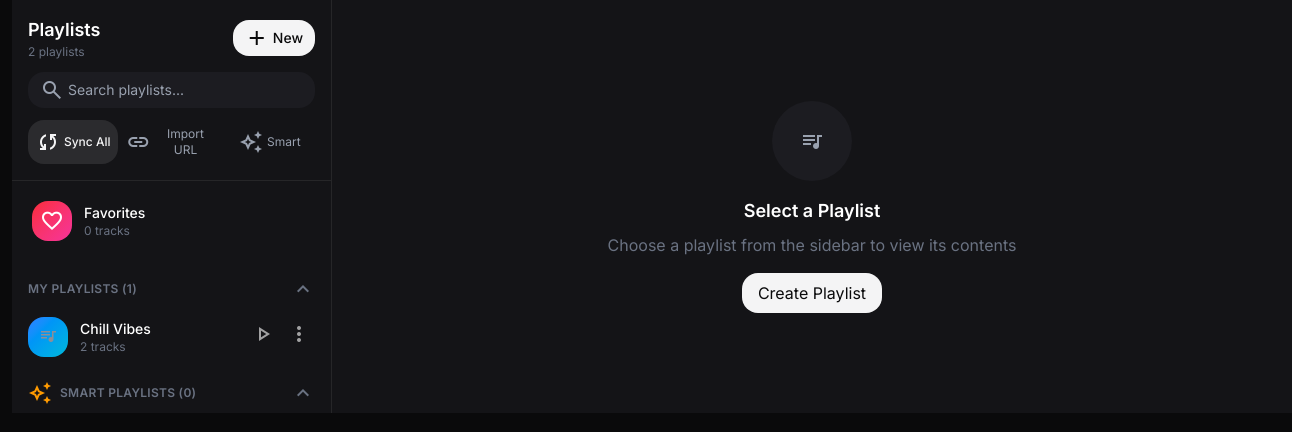
Test: PlaylistView — Favoritos reales (auditoría 24) › lee Favoritos de la biblioteca y no de get_local_playlist_tracks(-1)
Click the element showing "Favorites 0 tracks" at (89, 221), box x1=32 y1=201 x2=145 y2=241
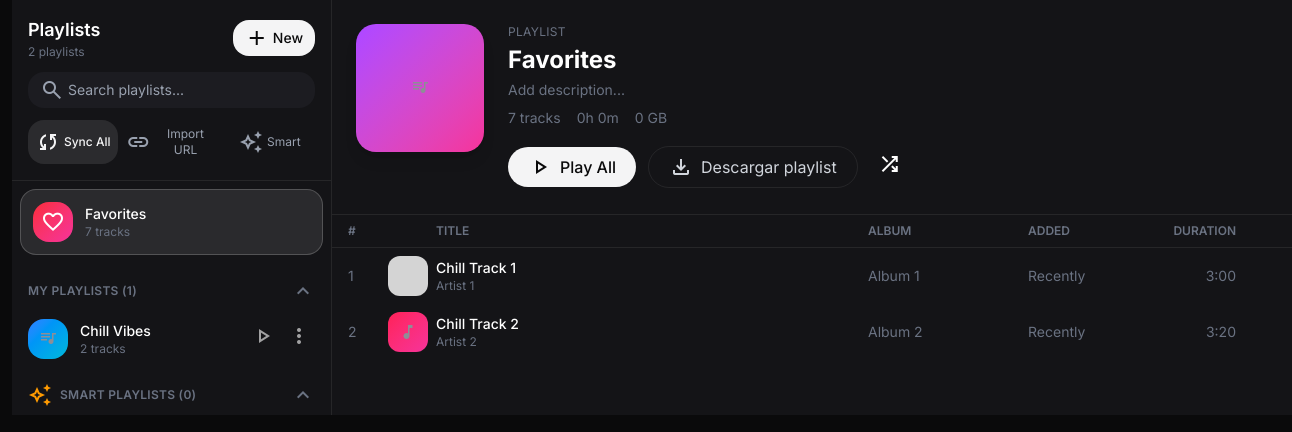
expect the number of elements with class "track-row" is 2: met, box x1=332 y1=248 x2=1291 y2=304; x1=332 y1=304 x2=1291 y2=360
expect the element showing "Favorites 7 tracks" is shown: met, box x1=20 y1=189 x2=323 y2=255
